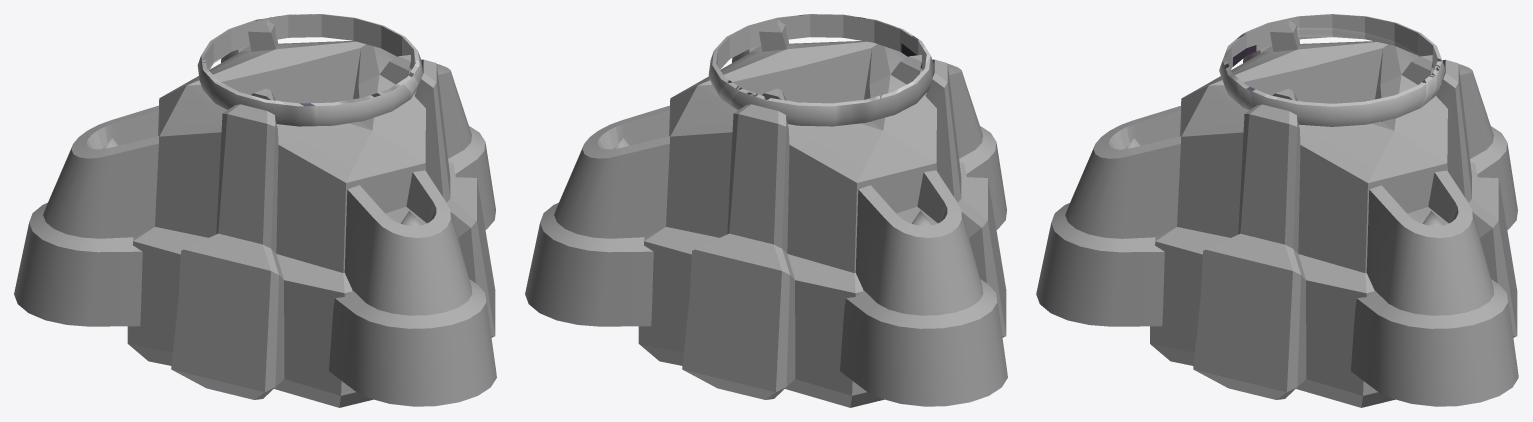
Rendered from Terraformer01.fbx.
3 renders of one model, left to right at view 1: azimuth 30°, elevation 25°; view 2: azimuth 150°, elevation 25°; view 3: azimuth 270°, elevation 25°, orthographic.
Visible parts, largest first — view 1: Core3, Leg1, Leg3, Ring, Leg2; view 2: Core3, Leg3, Leg2, Ring, Leg1; view 3: Core3, Leg2, Leg1, Ring, Leg3.
Boxes of the visible parts, box(x1,y1,x2,y2) form: Core3: box(127, 20, 495, 407); Leg1: box(329, 170, 496, 406); Leg3: box(14, 105, 158, 326); Ring: box(197, 14, 422, 126); Leg2: box(437, 64, 495, 229); Core3: box(638, 20, 1006, 407); Leg3: box(840, 170, 1007, 406); Leg2: box(525, 105, 669, 326); Ring: box(708, 14, 933, 126); Leg1: box(948, 64, 1006, 229); Core3: box(1150, 20, 1517, 407); Leg2: box(1351, 170, 1518, 406); Leg1: box(1036, 106, 1180, 326); Ring: box(1219, 14, 1444, 126); Leg3: box(1442, 60, 1517, 229).
Bounding box in the file's own units: 2.45 × 1.42 × 2.22.
